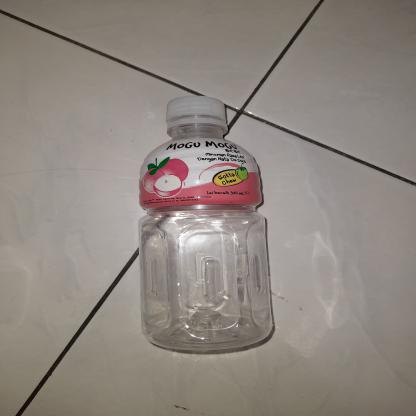bottle: (133, 92, 282, 354)
